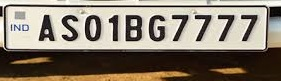numberplate: (4, 4, 271, 52)
